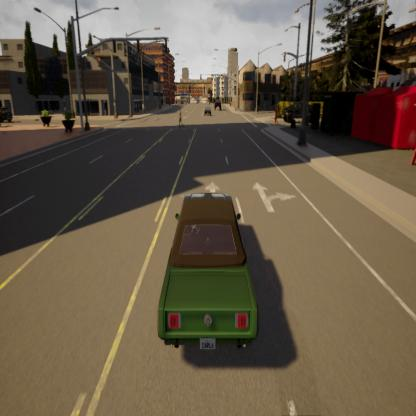Cars: (153, 186, 264, 354)
Pedestrian: (175, 103, 187, 132)
